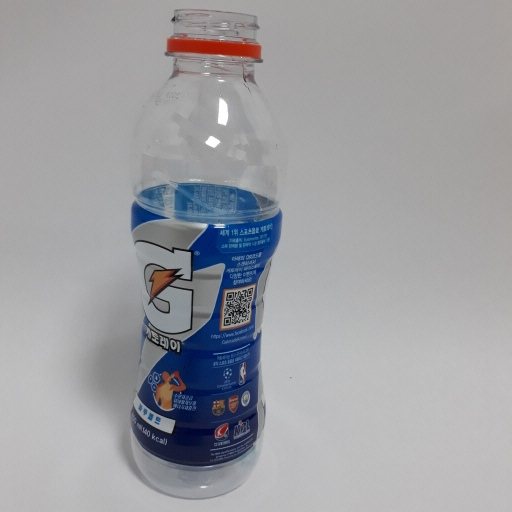Plastic_0: (119, 5, 285, 499)
